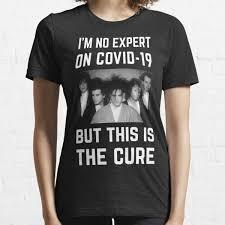Tshirt: (22, 6, 196, 219)
